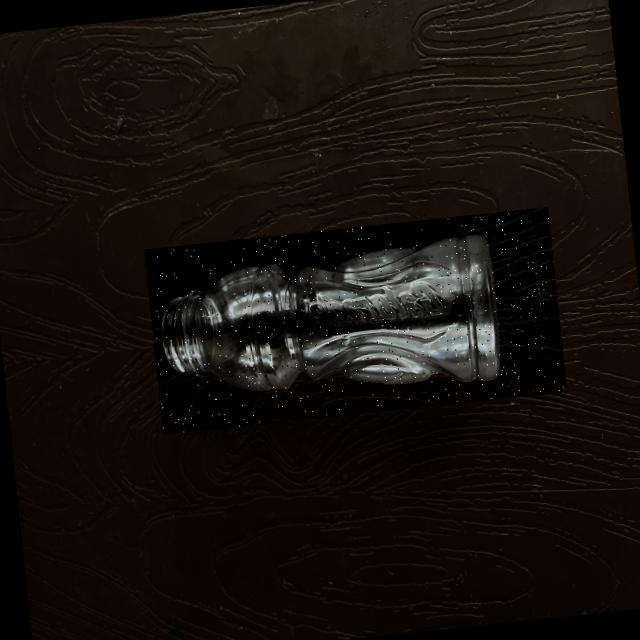PET_ClearBottle: (144, 206, 566, 433)
